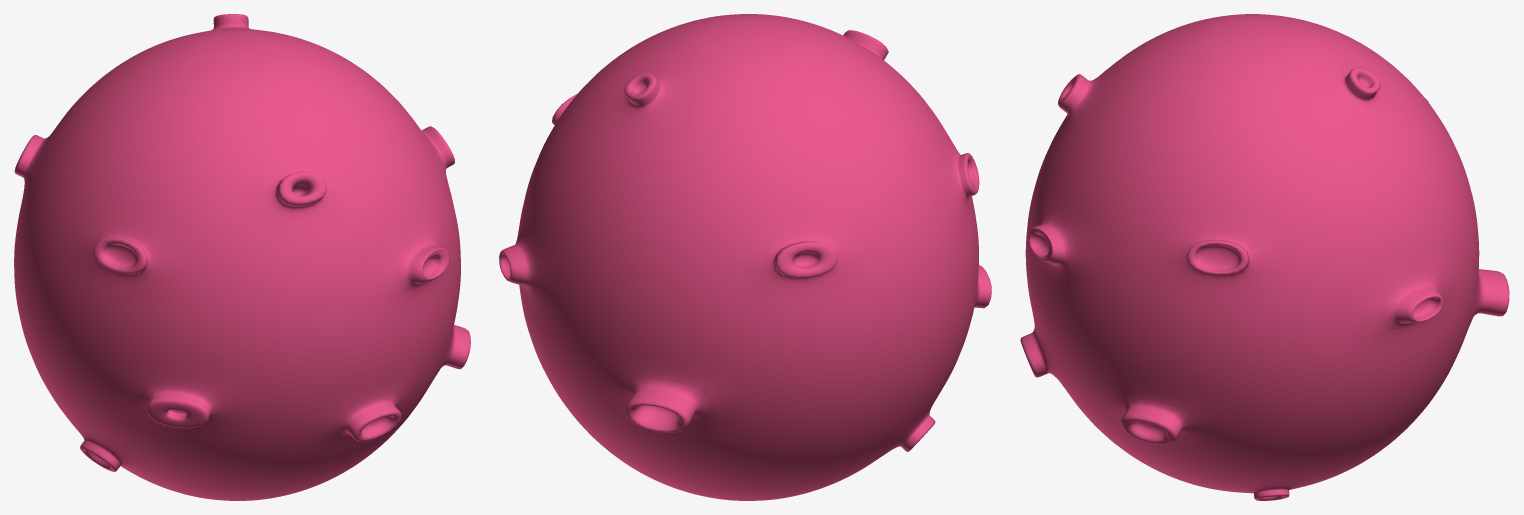
File: planet2.fbx
The picture shows the model from 3 angles, left to right: view 1: azimuth 30°, elevation 25°; view 2: azimuth 150°, elevation 25°; view 3: azimuth 270°, elevation 25°; orthographic projection. The views are drawn at different scales.
Parts seen in each view (by area): view 1: pSphere15; view 2: pSphere15; view 3: pSphere15.
Boxes of the visible parts, bbox=[...] form: pSphere15: bbox=[14, 14, 470, 500]; pSphere15: bbox=[499, 14, 991, 500]; pSphere15: bbox=[1020, 14, 1509, 500].
Bounding box in the file's own units: 1.93 × 2.05 × 2.07.
